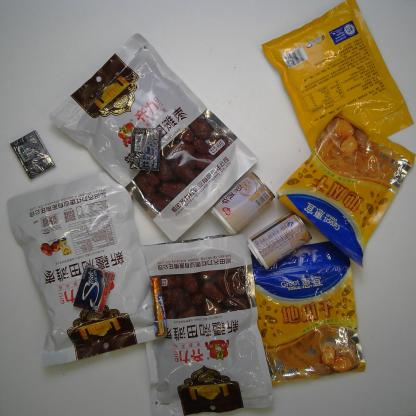Candy: (148, 274, 168, 338)
Canned Food: (209, 170, 277, 236), (246, 211, 314, 270)
Dried Food: (46, 32, 260, 244), (5, 170, 171, 368), (135, 231, 277, 416)
Dried Fruit: (260, 0, 415, 153), (274, 106, 416, 272), (251, 238, 367, 387)
Gum: (10, 129, 56, 181), (73, 264, 116, 314), (129, 126, 162, 172)
